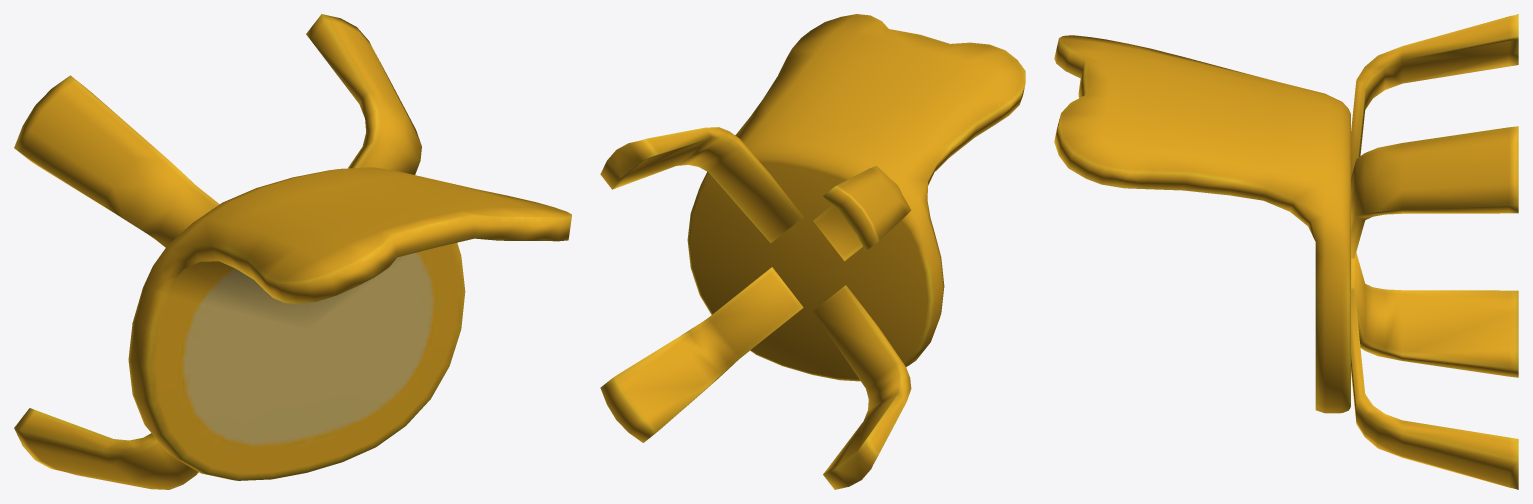
The picture shows the model from 3 angles, left to right: view 1: azimuth 30°, elevation 25°; view 2: azimuth 150°, elevation 25°; view 3: azimuth 270°, elevation 25°; orthographic projection. The views are drawn at different scales.
Parts seen in each view (by area): view 1: node-Leg_A_low__mReBody; view 2: node-Leg_A_low__mReBody; view 3: node-Leg_A_low__mReBody.
Part boxes in pixels (x1=…): node-Leg_A_low__mReBody: x1=14, y1=14, x2=571, y2=489; node-Leg_A_low__mReBody: x1=600, y1=14, x2=1025, y2=489; node-Leg_A_low__mReBody: x1=1054, y1=14, x2=1518, y2=489.
Bounding box in the file's own units: 7.09 × 7.41 × 8.58.
